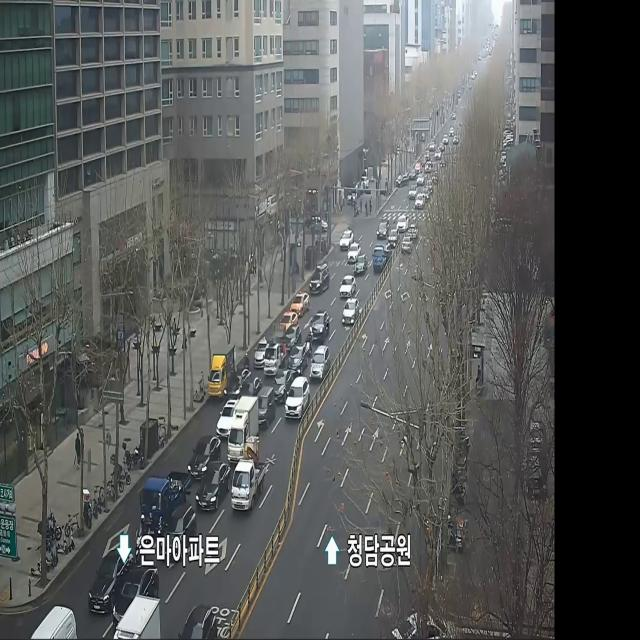truck: (136, 467, 194, 537), (229, 448, 270, 522), (205, 342, 240, 402)
